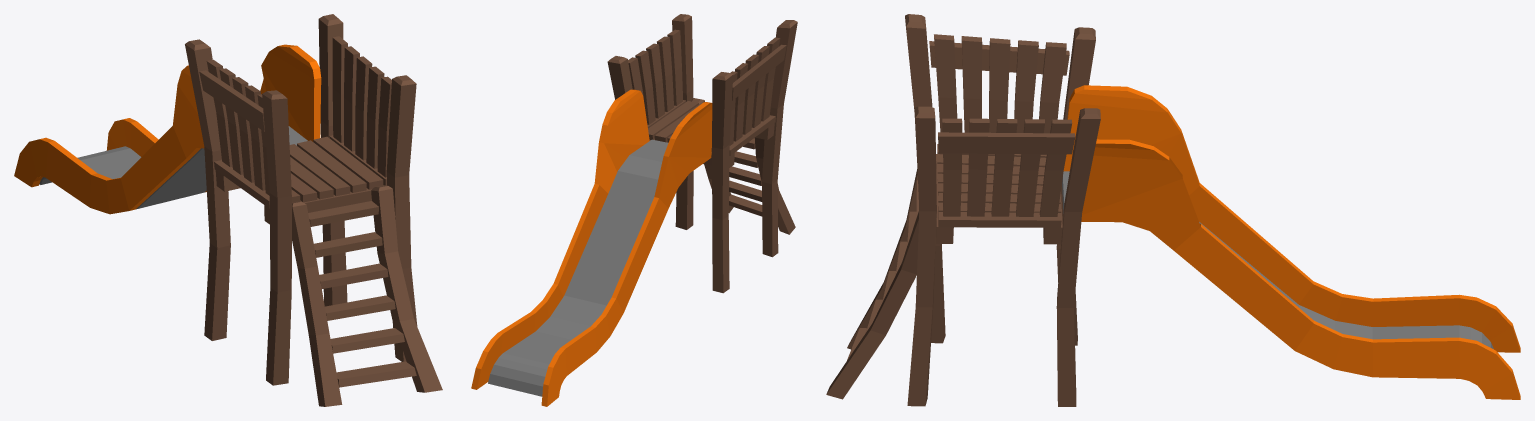
Rendered from SM_Slide.fbx.
3 views of the same model, side by side, from view 1: azimuth 30°, elevation 25°; view 2: azimuth 150°, elevation 25°; view 3: azimuth 270°, elevation 25° (orthographic). The views are drawn at different scales.
Visible parts, largest first — view 1: Tobogan; view 2: Tobogan; view 3: Tobogan.
Part boxes in pixels (x1,y1,x2,y2): Tobogan: (14, 14, 442, 406); Tobogan: (471, 14, 797, 406); Tobogan: (826, 14, 1520, 406).
Bounding box in the file's own units: 167 × 309 × 611.
